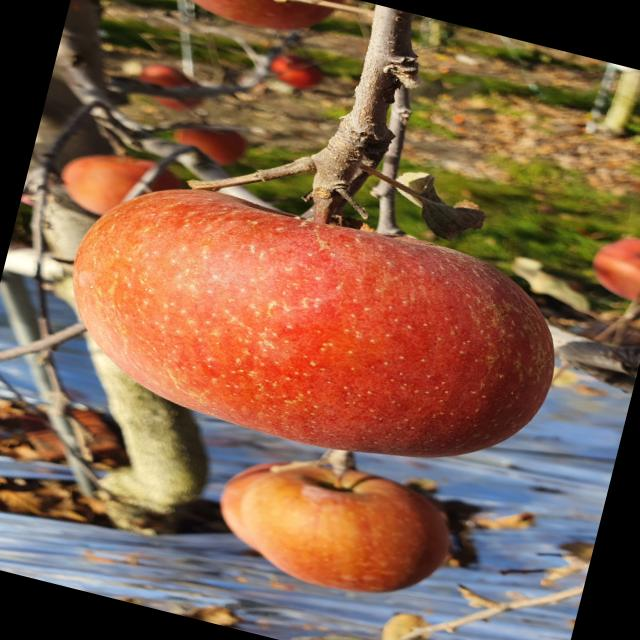fresh: (37, 150, 584, 507)
